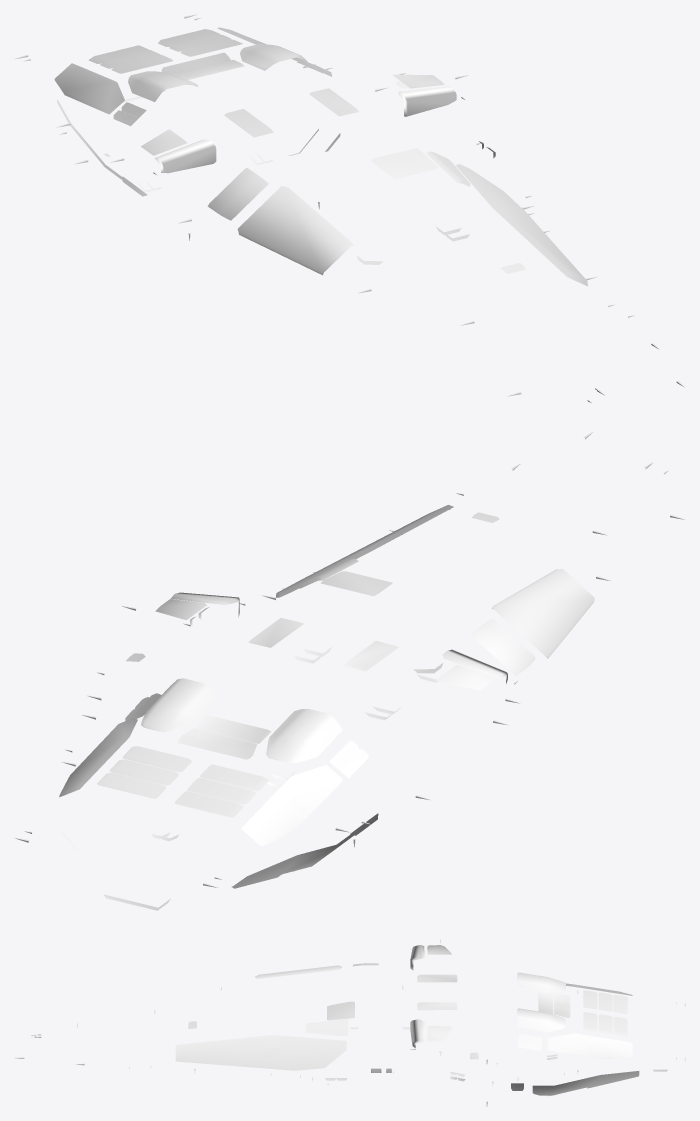
Rendered from hgn_fs_carr_04.glb.
3 views of the same model, one above another, from view 1: azimuth 30°, elevation 25°; view 2: azimuth 150°, elevation 25°; view 3: azimuth 270°, elevation 25° (orthographic). The views are drawn at different scales.
Visible parts, largest first — view 1: hgn_flagship_carrier_04_LOD0; view 2: hgn_flagship_carrier_04_LOD0; view 3: hgn_flagship_carrier_04_LOD0.
Boxes of the visible parts, x1,y1,x2,y2 form: hgn_flagship_carrier_04_LOD0: [14, 14, 685, 403]; hgn_flagship_carrier_04_LOD0: [14, 432, 685, 910]; hgn_flagship_carrier_04_LOD0: [14, 939, 685, 1106].
Size of what is drawn, in the model's own units: 7.5 by 2.93 by 18.28.
Materials: 1 (1 with a texture image).
